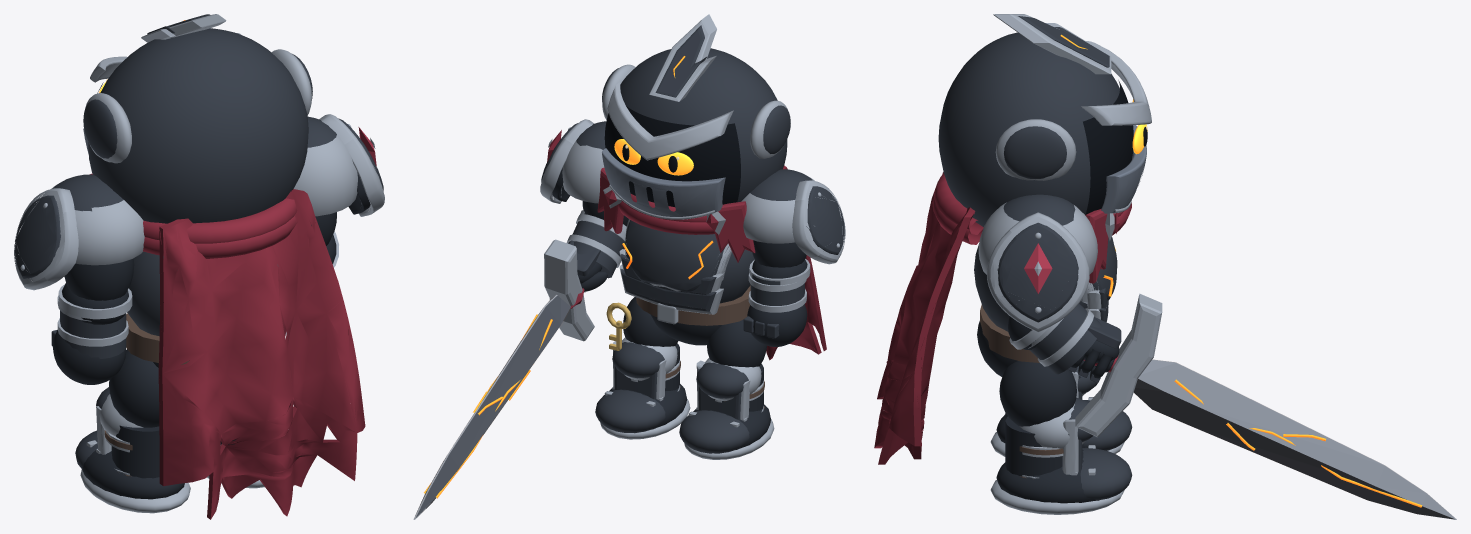
The model's file is ember-guardian.glb.
3 renders of one model, left to right at view 1: azimuth 30°, elevation 25°; view 2: azimuth 150°, elevation 25°; view 3: azimuth 270°, elevation 25°, orthographic. The views are drawn at different scales.
Parts seen in each view (by area): view 1: armor-batch (×22); view 2: armor-batch (×33), forged-blade, ember-eye; view 3: armor-batch (×25), forged-blade.
Boxes of the visible parts, <box> form: armor-batch (×22): <box>14,14,384,519</box>; armor-batch (×33): <box>424,14,845,498</box>; forged-blade: <box>413,295,570,519</box>; ember-eye: <box>657,152,693,175</box>; armor-batch (×25): <box>874,14,1422,514</box>; forged-blade: <box>1133,359,1456,519</box>.
Bounding box in the file's own units: 1.32 × 1.74 × 1.95.
